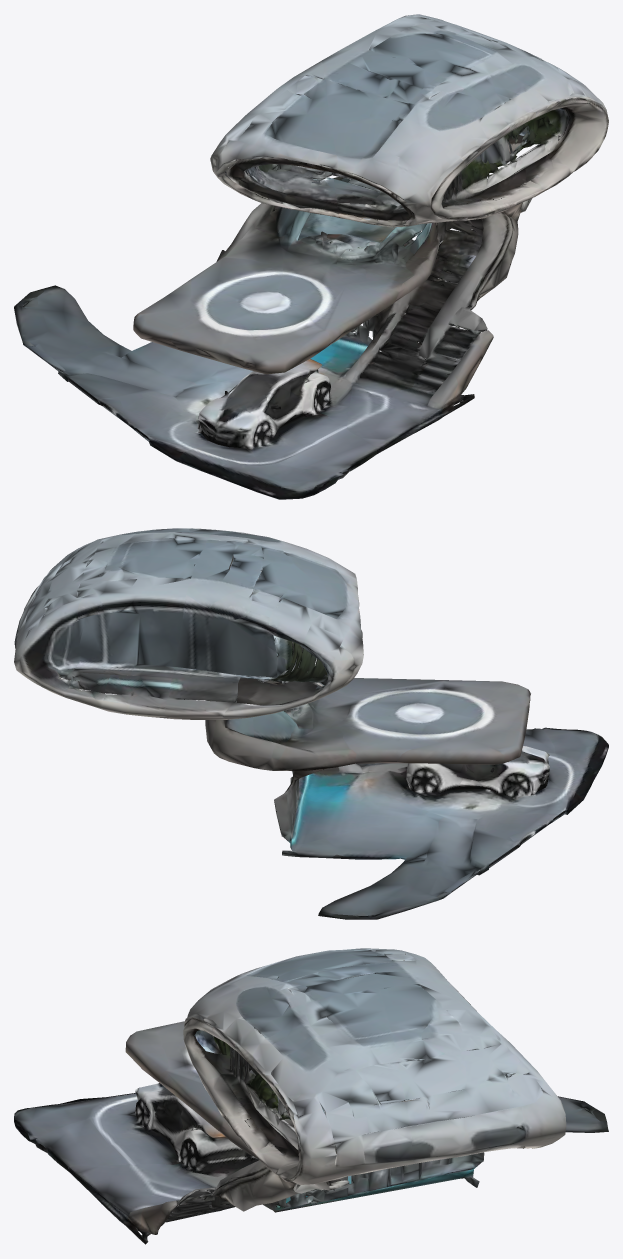
Rendered from lm_chrome.glb.
The picture shows the model from 3 angles, top to bottom: view 1: azimuth 30°, elevation 25°; view 2: azimuth 150°, elevation 25°; view 3: azimuth 270°, elevation 25°; orthographic projection. The views are drawn at different scales.
Visible parts, largest first — view 1: tripo_node_7026cf02-b3d9-4652-b6ab-0f2a401f25a2; view 2: tripo_node_7026cf02-b3d9-4652-b6ab-0f2a401f25a2; view 3: tripo_node_7026cf02-b3d9-4652-b6ab-0f2a401f25a2.
Boxes of the visible parts, bbox=[...] form: tripo_node_7026cf02-b3d9-4652-b6ab-0f2a401f25a2: bbox=[14, 14, 608, 499]; tripo_node_7026cf02-b3d9-4652-b6ab-0f2a401f25a2: bbox=[14, 528, 608, 919]; tripo_node_7026cf02-b3d9-4652-b6ab-0f2a401f25a2: bbox=[14, 948, 608, 1244].
Size of the model in its own units: 0.9967 by 0.4811 by 0.9437.
1 material, 1 textured.
